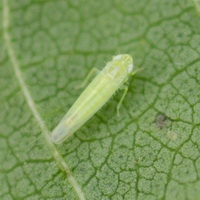insect: (51, 54, 132, 143)
